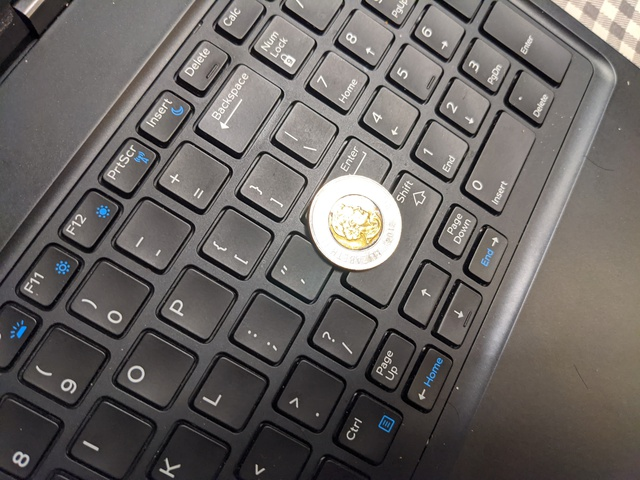twonie: (297, 157, 411, 284)
